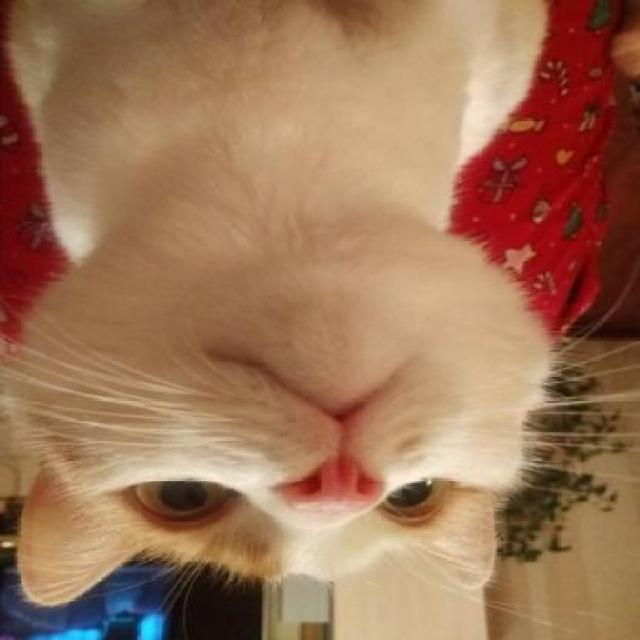cat: (12, 0, 556, 608)
